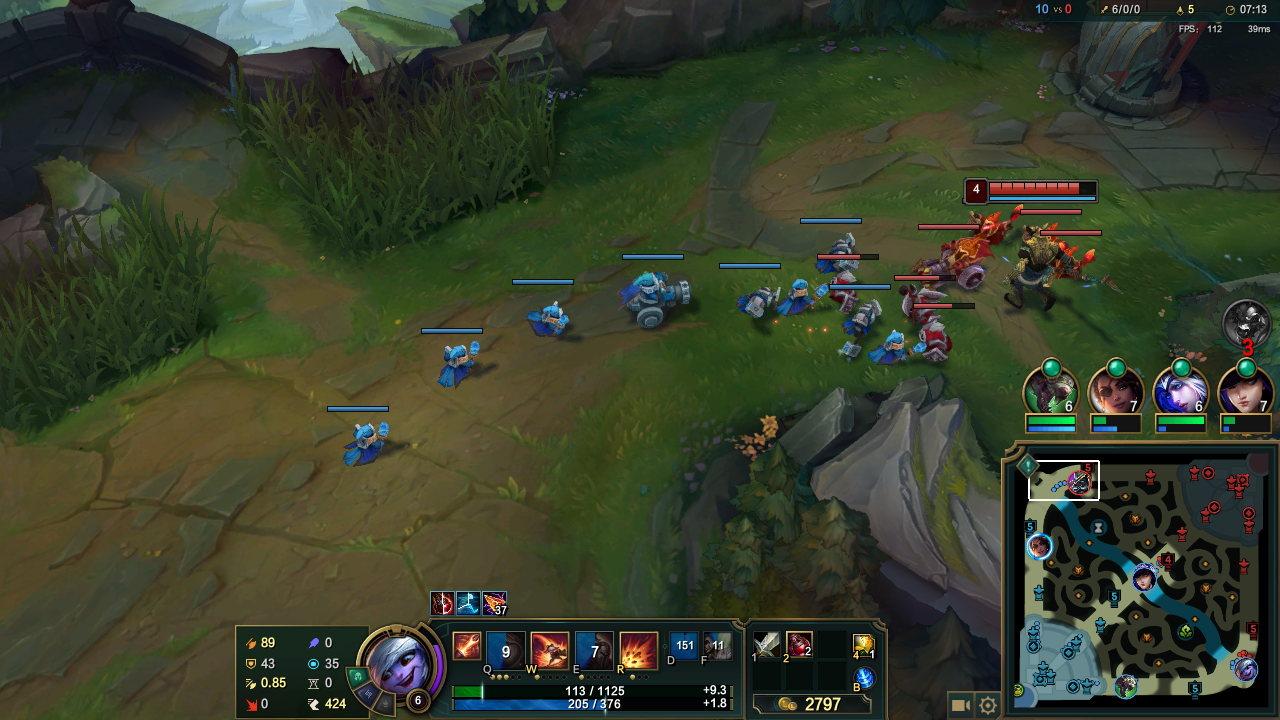DFXB: (909, 231, 993, 300), (965, 203, 1016, 250), (920, 315, 962, 364), (1056, 244, 1101, 284), (827, 271, 865, 312), (895, 285, 935, 322)
DFYX: (984, 181, 1064, 197)
WFXB: (610, 264, 701, 336), (433, 334, 489, 390), (860, 324, 927, 370), (338, 422, 397, 469), (515, 297, 573, 340), (835, 292, 883, 341), (803, 234, 862, 271), (737, 279, 782, 322), (781, 275, 828, 316)
Yita: (1187, 675, 1204, 699)
